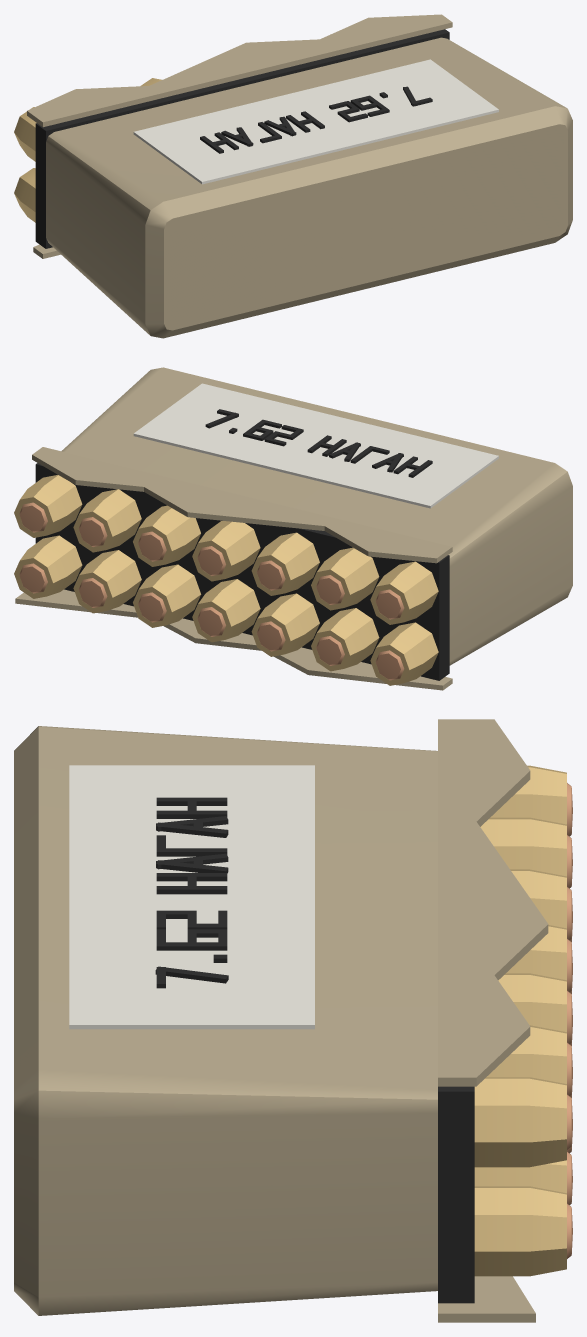
File: ammo_762x38r.glb
3 renders of one model, top to bottom at view 1: azimuth 30°, elevation 25°; view 2: azimuth 150°, elevation 25°; view 3: azimuth 270°, elevation 25°, orthographic. The views are drawn at different scales.
Parts seen in each view (by area): view 1: body; view 2: body; view 3: body.
Part boxes in pixels (x1,y1,x2,y2): body: [14, 14, 572, 338]; body: [14, 367, 572, 690]; body: [14, 719, 572, 1322].
Bounding box in the file's own units: 0.072 × 0.0227 × 0.0455.
